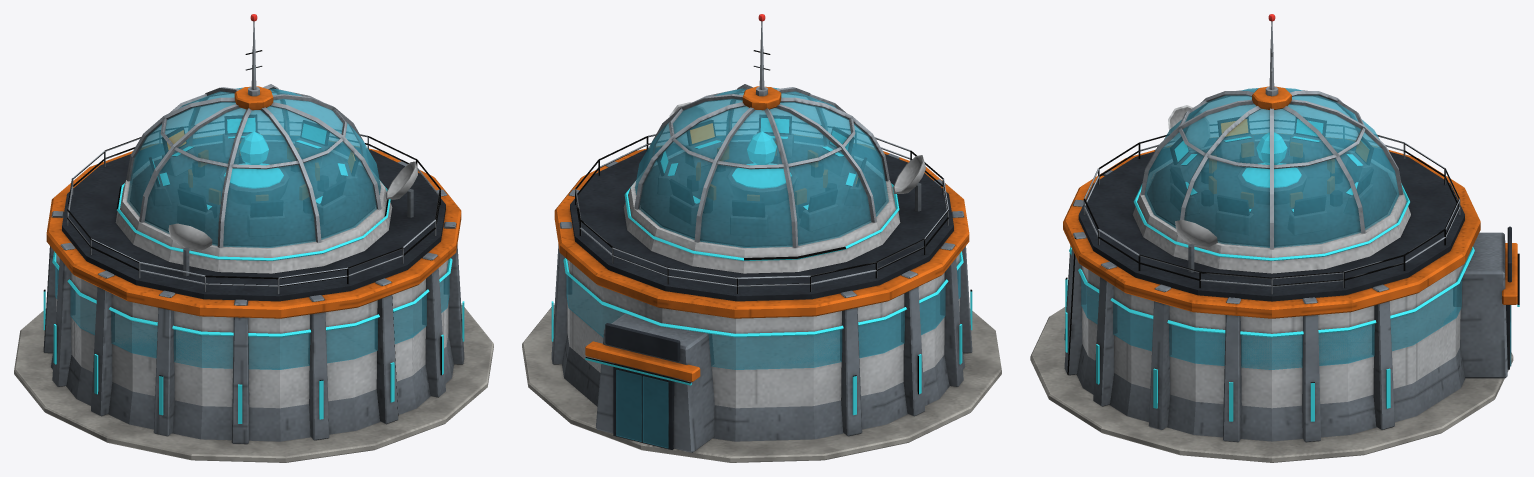
Rendered from centro_mando.fbx.
3 renders of one model, left to right at view 1: azimuth 30°, elevation 25°; view 2: azimuth 150°, elevation 25°; view 3: azimuth 270°, elevation 25°, orthographic.
Visible parts, largest first — view 1: centro_mando, centro_mando_cristal, centro_mando_neon; view 2: centro_mando, centro_mando_cristal, centro_mando_neon, centro_mando_cartel; view 3: centro_mando, centro_mando_cristal, centro_mando_neon, centro_mando_neon_naranja.
Boxes of the visible parts, x1,y1,x2,y2 form: centro_mando: (14,21,493,462); centro_mando_cristal: (55,87,449,369); centro_mando_neon: (43,117,464,423); centro_mando: (522,21,1001,462); centro_mando_cristal: (566,87,960,448); centro_mando_neon: (551,117,972,415); centro_mando_cartel: (605,323,680,361); centro_mando: (1030,21,1517,462); centro_mando_cristal: (1081,87,1511,369); centro_mando_neon: (1065,119,1519,421); centro_mando_neon_naranja: (1220,119,1369,162).
Size of the model in its own units: 34 by 26.98 by 34.43.
3 materials, 3 textured.
